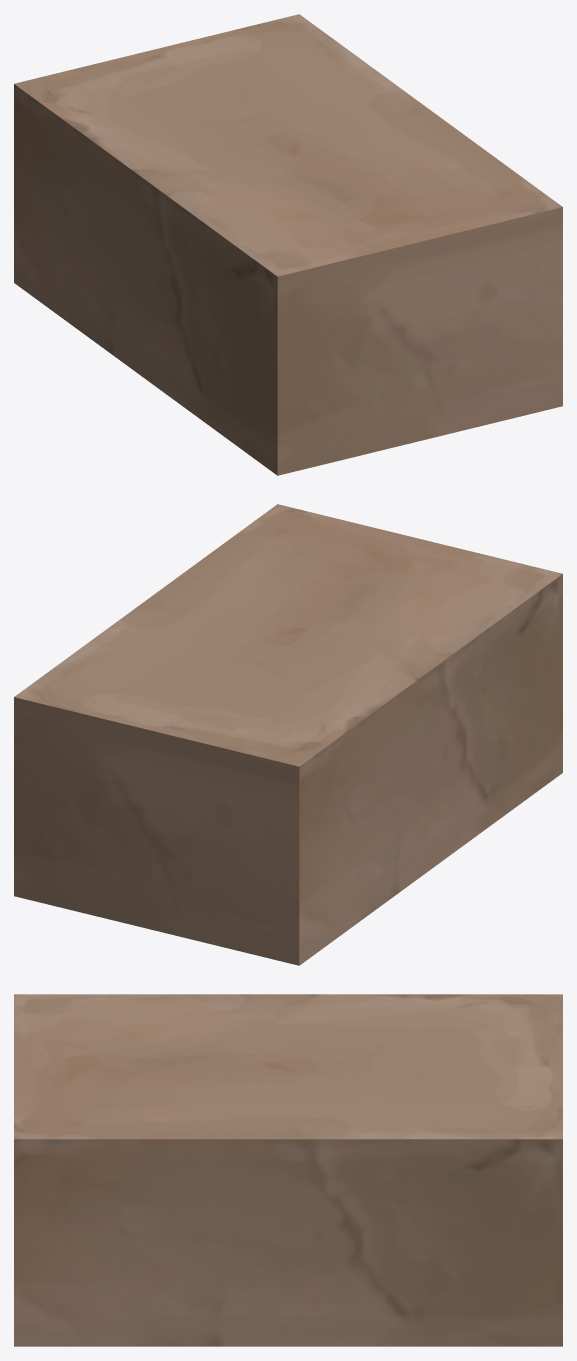
The model's file is Brick.fbx.
3 views of the same model, one above another, from view 1: azimuth 30°, elevation 25°; view 2: azimuth 150°, elevation 25°; view 3: azimuth 270°, elevation 25° (orthographic). The views are drawn at different scales.
Parts seen in each view (by area): view 1: Cube; view 2: Cube; view 3: Cube.
Part boxes in pixels (x1,y1,x2,y2): Cube: (14,14,562,475); Cube: (14,504,562,965); Cube: (14,994,562,1346).
Bounding box in the file's own units: 23.13 × 15.42 × 37.
